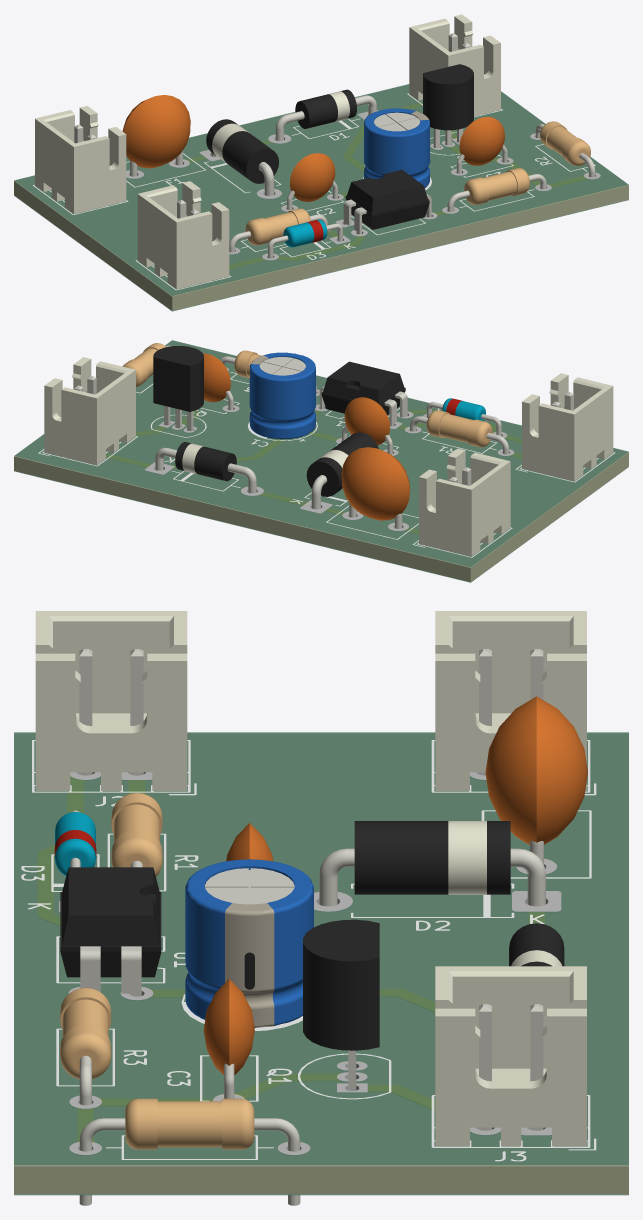
The model's file is a1mini_led_follower.glb.
3 renders of one model, top to bottom at view 1: azimuth 30°, elevation 25°; view 2: azimuth 150°, elevation 25°; view 3: azimuth 270°, elevation 25°, orthographic. The views are drawn at different scales.
Parts seen in each view (by area): view 1: =>[0:1:1:27], =>[0:1:1:25], =>[0:1:1:17] (×3), =>[0:1:1:3] (×3), =>[0:1:1:19], =>[0:1:1:11], =>[0:1:1:13], =>[0:1:1:5] (×2), =>[0:1:1:21], =>[0:1:1:9], =>[0:1:1:7], =>[0:1:1:24] (+4 smaller); view 2: =>[0:1:1:27], =>[0:1:1:25], =>[0:1:1:17] (×3), =>[0:1:1:19], =>[0:1:1:11], =>[0:1:1:21], =>[0:1:1:13], =>[0:1:1:3] (×3), =>[0:1:1:5] (×2), =>[0:1:1:7], =>[0:1:1:9], =>[0:1:1:24] (+4 smaller); view 3: =>[0:1:1:27], =>[0:1:1:25], =>[0:1:1:17] (×3), =>[0:1:1:19], =>[0:1:1:3] (×3), =>[0:1:1:9], =>[0:1:1:13], =>[0:1:1:11], =>[0:1:1:21], =>[0:1:1:24], =>[0:1:1:5] (×2), =>[0:1:1:23] (+4 smaller).
Part boxes in pixels (bbox=[...]): =>[0:1:1:27]: bbox=[14, 85, 628, 310]; =>[0:1:1:25]: bbox=[14, 84, 628, 295]; =>[0:1:1:17] (×3): bbox=[35, 14, 500, 289]; =>[0:1:1:3] (×3): bbox=[229, 121, 595, 252]; =>[0:1:1:19]: bbox=[364, 108, 430, 187]; =>[0:1:1:11]: bbox=[122, 95, 190, 176]; =>[0:1:1:13]: bbox=[343, 169, 431, 234]; =>[0:1:1:5] (×2): bbox=[287, 117, 507, 209]; =>[0:1:1:21]: bbox=[423, 64, 473, 148]; =>[0:1:1:9]: bbox=[206, 119, 278, 196]; =>[0:1:1:7]: bbox=[275, 89, 376, 140]; =>[0:1:1:24]: bbox=[33, 93, 595, 290]; =>[0:1:1:27]: bbox=[14, 341, 628, 582]; =>[0:1:1:25]: bbox=[14, 340, 628, 567]; =>[0:1:1:17] (×3): bbox=[44, 357, 613, 556]; =>[0:1:1:19]: bbox=[249, 352, 315, 439]; =>[0:1:1:11]: bbox=[341, 447, 409, 528]; =>[0:1:1:21]: bbox=[153, 346, 203, 430]; =>[0:1:1:13]: bbox=[319, 361, 407, 426]; =>[0:1:1:3] (×3): bbox=[122, 343, 508, 454]; =>[0:1:1:5] (×2): bbox=[203, 353, 392, 454]; =>[0:1:1:7]: bbox=[155, 442, 256, 493]; =>[0:1:1:9]: bbox=[306, 432, 378, 509]; =>[0:1:1:24]: bbox=[38, 372, 615, 557]; =>[0:1:1:27]: bbox=[14, 734, 628, 1194]; =>[0:1:1:25]: bbox=[14, 732, 628, 1165]; =>[0:1:1:17] (×3): bbox=[35, 611, 586, 1146]; =>[0:1:1:19]: bbox=[185, 859, 313, 1027]; =>[0:1:1:3] (×3): bbox=[60, 793, 300, 1205]; =>[0:1:1:9]: bbox=[319, 821, 545, 906]; =>[0:1:1:13]: bbox=[60, 867, 161, 996]; =>[0:1:1:11]: bbox=[485, 696, 587, 864]; =>[0:1:1:21]: bbox=[303, 919, 379, 1090]; =>[0:1:1:24]: bbox=[21, 740, 596, 1161]; =>[0:1:1:5] (×2): bbox=[203, 823, 273, 1098]; =>[0:1:1:23]: bbox=[59, 772, 561, 1155].
Bounding box in the file's own units: 0.05 × 0.011 × 0.03.
